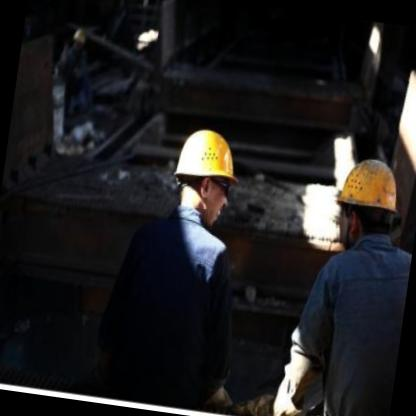bee: (162, 114, 248, 236), (325, 146, 408, 256)
